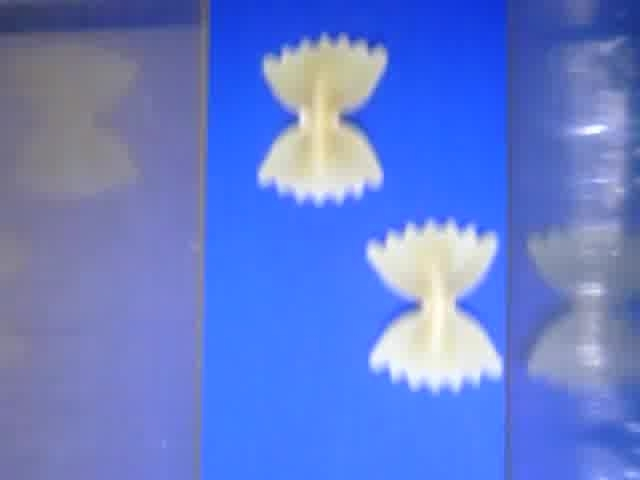farfalle: (366, 218, 503, 392), (258, 33, 390, 206)
